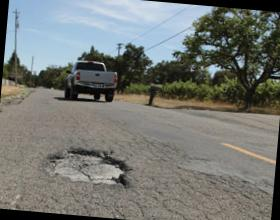pothole: (28, 136, 145, 196)
